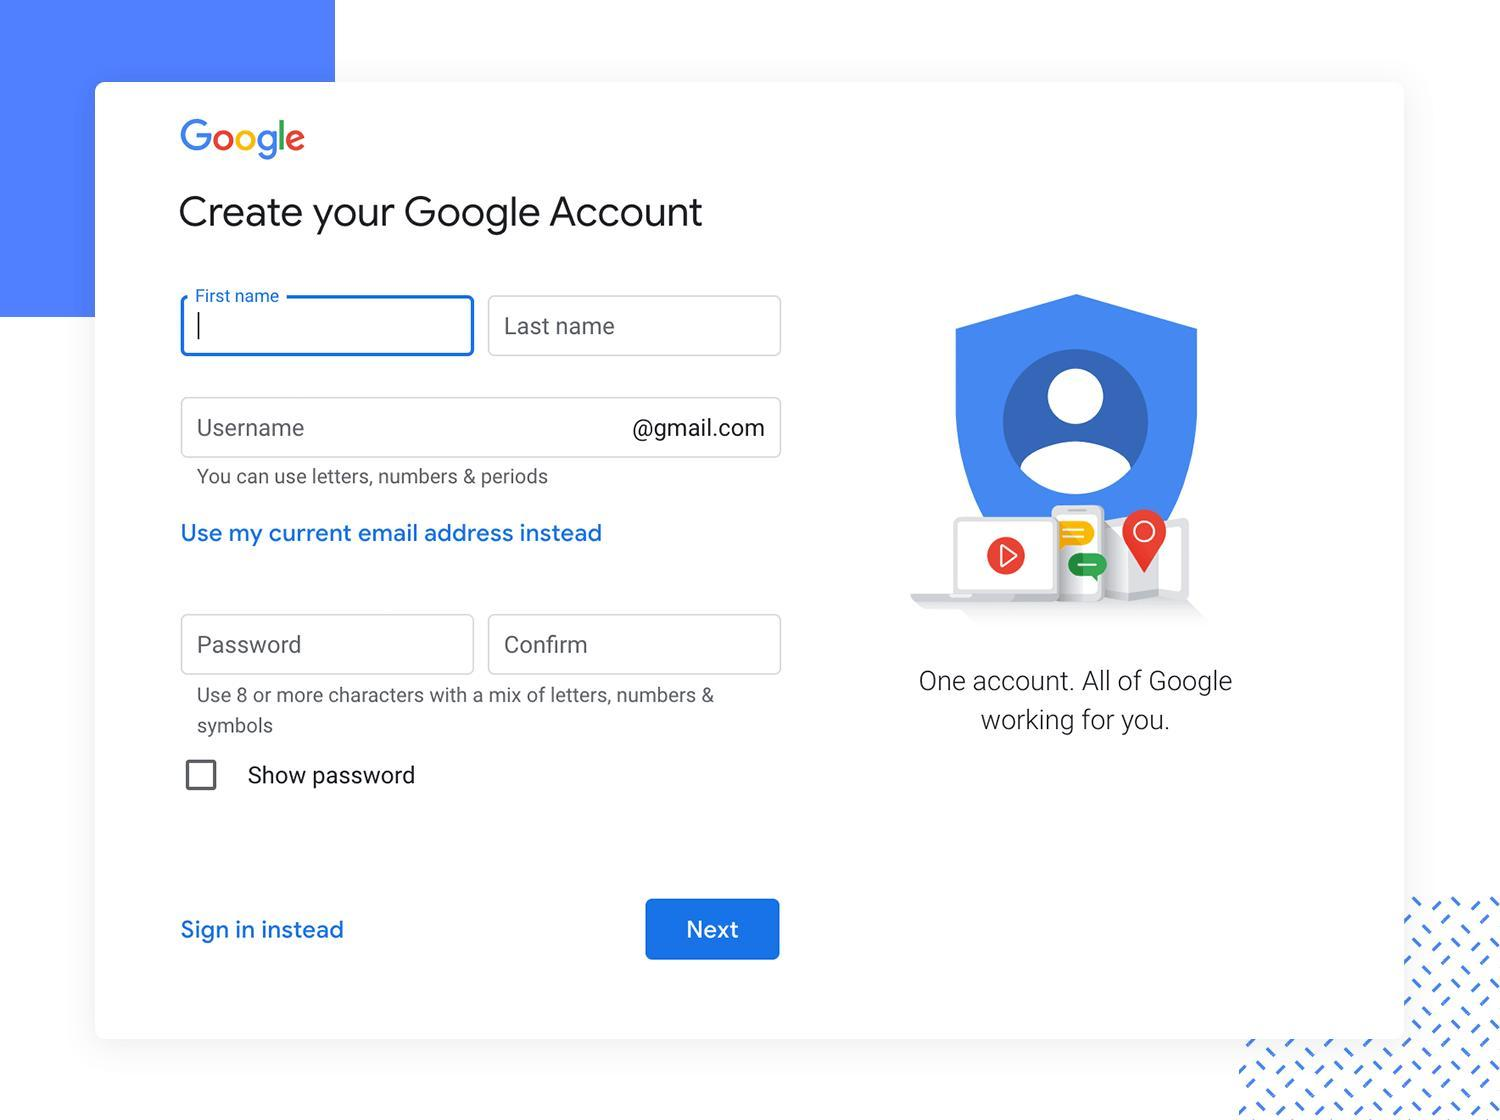button: (645, 899, 784, 961)
checkbox: (188, 762, 216, 789)
input: (181, 396, 782, 460), (184, 614, 475, 675), (184, 296, 474, 358), (489, 615, 781, 675), (489, 296, 782, 355)
label: (191, 681, 720, 742), (174, 188, 708, 231), (173, 518, 607, 551), (196, 465, 564, 491), (244, 761, 421, 792), (172, 916, 349, 944)
